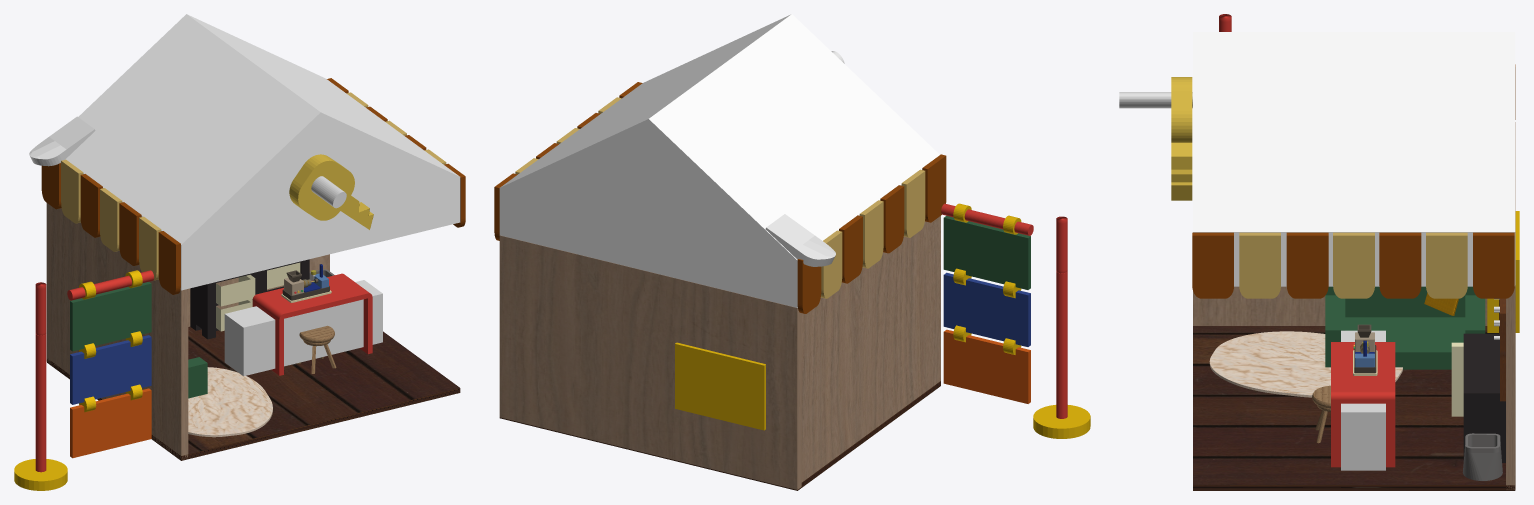
File: key.glb
3 views of the same model, side by side, from view 1: azimuth 30°, elevation 25°; view 2: azimuth 150°, elevation 25°; view 3: azimuth 270°, elevation 25° (orthographic). The views are drawn at different scales.
Visible parts, largest first — view 1: Cube.002, Cube, Cube.003, Cube.010, Cube.025, ป้าย1, ป้าย3, ป้าย2, โต๊ะ, big key, Cube.026, เสา (+18 smaller); view 2: Cube.002, Cube.001, Cube.003, Cube.008, ป้าย1, ป้าย3, ป้าย2, Cube.026, เสา, ฐานเสา, Cube.019, Cube.020 (+8 smaller); view 3: Cube.002, Cube, โซฟา, Cube.025, โต๊ะ, Cube.003, Cube.010, ลิ้นชัก.002, Cube.013, Cube.015, Cube.011, Cube.012 (+13 smaller).
Part boxes in pixels (x1,y1,x2,y2): Cube.002: (65,14,460,290); Cube: (47,326,460,460); Cube.003: (47,205,188,459); Cube.010: (224,280,382,376); Cube.025: (188,367,272,437); ป้าย1: (70,282,151,351); ป้าย3: (70,388,151,458); ป้าย2: (70,335,151,404); โต๊ะ: (252,273,372,375); big key: (289,154,373,229); Cube.026: (29,116,95,166); เสา: (35,334,46,472); Cube.002: (499,14,939,307); Cube.001: (499,235,801,489); Cube.003: (801,216,940,482); Cube.008: (675,342,765,430); ป้าย1: (943,215,1030,289); ป้าย3: (943,329,1030,403); ป้าย2: (943,272,1030,346); Cube.026: (765,214,835,266); เสา: (1056,271,1067,418); ฐานเสา: (1033,405,1090,438); Cube.019: (901,169,925,237); Cube.020: (880,185,904,253); Cube.002: (1193,32,1515,286); Cube: (1193,326,1515,490); โซฟา: (1325,286,1485,369); Cube.025: (1209,331,1402,397); โต๊ะ: (1331,342,1395,467); Cube.003: (1193,286,1487,325); Cube.010: (1341,330,1385,470); ลิ้นชัก.002: (1463,363,1505,462); Cube.013: (1286,232,1328,298); Cube.015: (1379,232,1421,298); Cube.011: (1192,232,1233,298); Cube.012: (1239,232,1280,298).
Bounding box in the file's own units: 18.67 × 12.92 × 12.43.
69 materials, 14 textured.
